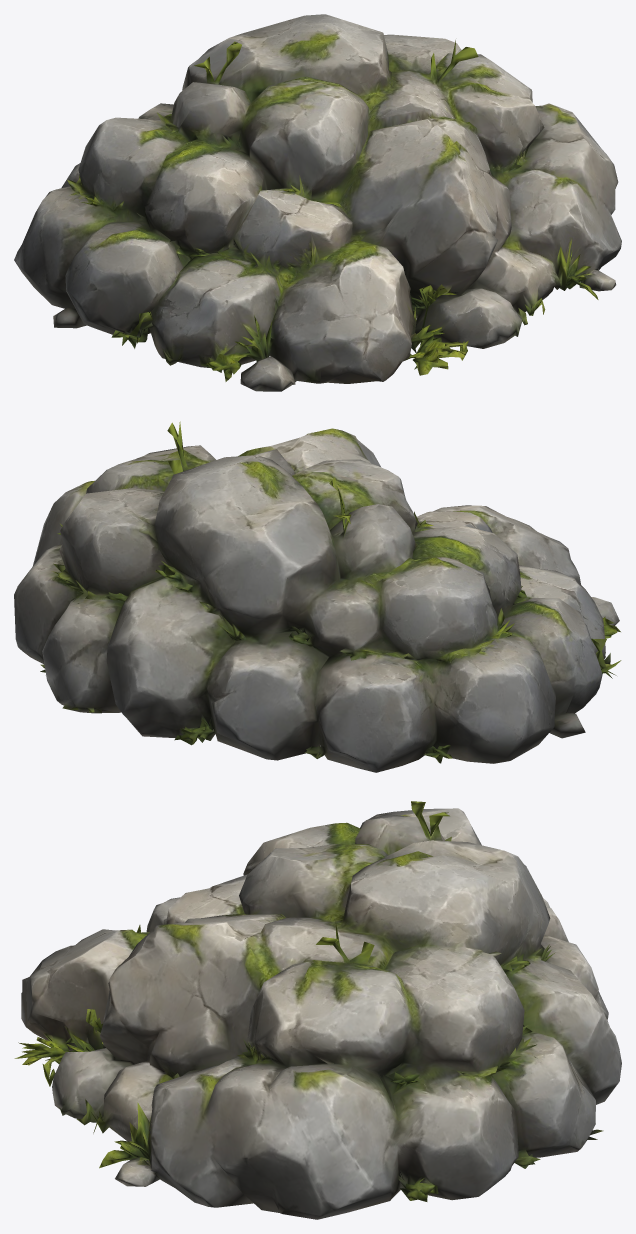
The picture shows the model from 3 angles, top to bottom: view 1: azimuth 30°, elevation 25°; view 2: azimuth 150°, elevation 25°; view 3: azimuth 270°, elevation 25°; orthographic projection. The views are drawn at different scales.
Parts seen in each view (by area): view 1: tripo_node_9a6f9797-22cd-47d6-9c7f-f531c4fa2202; view 2: tripo_node_9a6f9797-22cd-47d6-9c7f-f531c4fa2202; view 3: tripo_node_9a6f9797-22cd-47d6-9c7f-f531c4fa2202.
Boxes of the visible parts, x1,y1,x2,y2 form: tripo_node_9a6f9797-22cd-47d6-9c7f-f531c4fa2202: [14, 14, 621, 391]; tripo_node_9a6f9797-22cd-47d6-9c7f-f531c4fa2202: [14, 421, 621, 772]; tripo_node_9a6f9797-22cd-47d6-9c7f-f531c4fa2202: [14, 801, 621, 1219].
Size of the model in its own units: 0.9827 by 0.3879 by 0.8423.
Materials: 1 (1 with a texture image).
